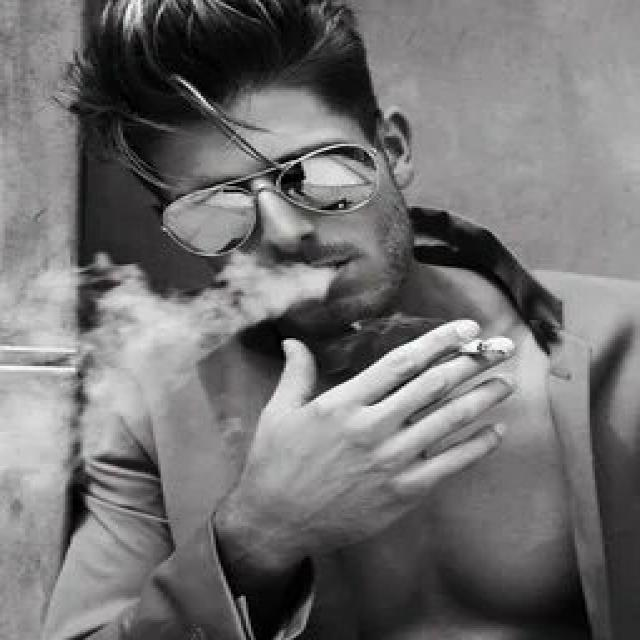cigarette: (457, 336, 514, 360)
